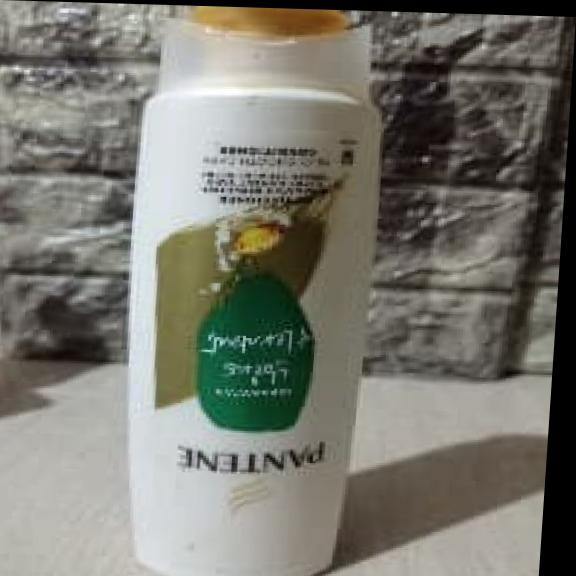Plastik: (129, 6, 379, 576)
